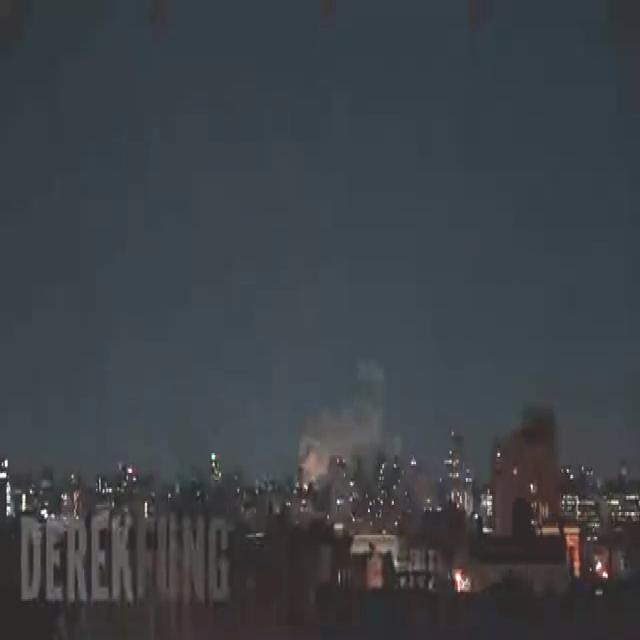smoke: (298, 361, 400, 480)
